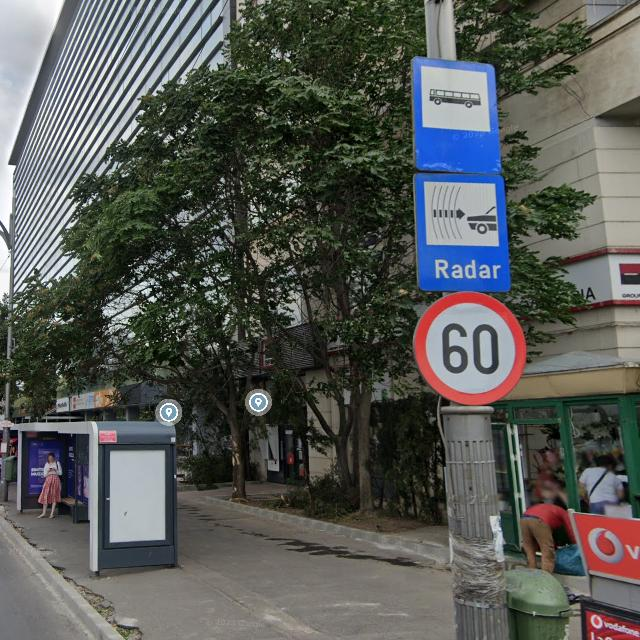forb_speed_over_60: (413, 290, 526, 407)
info_bus_station: (410, 53, 502, 175)
